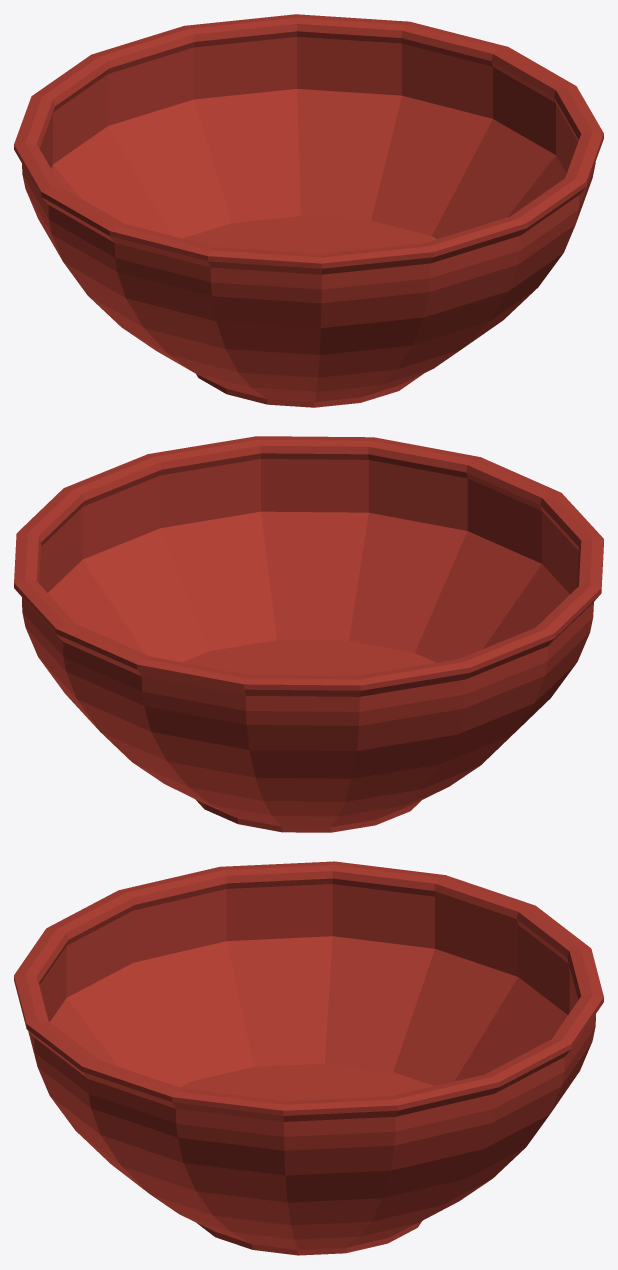
File: mixing_bowl.glb
3 views of the same model, one above another, from view 1: azimuth 30°, elevation 25°; view 2: azimuth 150°, elevation 25°; view 3: azimuth 270°, elevation 25° (orthographic).
Visible parts, largest first — view 1: Bowl_Big_Red; view 2: Bowl_Big_Red; view 3: Bowl_Big_Red.
Boxes of the visible parts, bbox=[...] form: Bowl_Big_Red: bbox=[14, 14, 603, 407]; Bowl_Big_Red: bbox=[14, 436, 603, 832]; Bowl_Big_Red: bbox=[14, 861, 603, 1255].
Bounding box in the file's own units: 0.6223 × 0.2551 × 0.6223.
